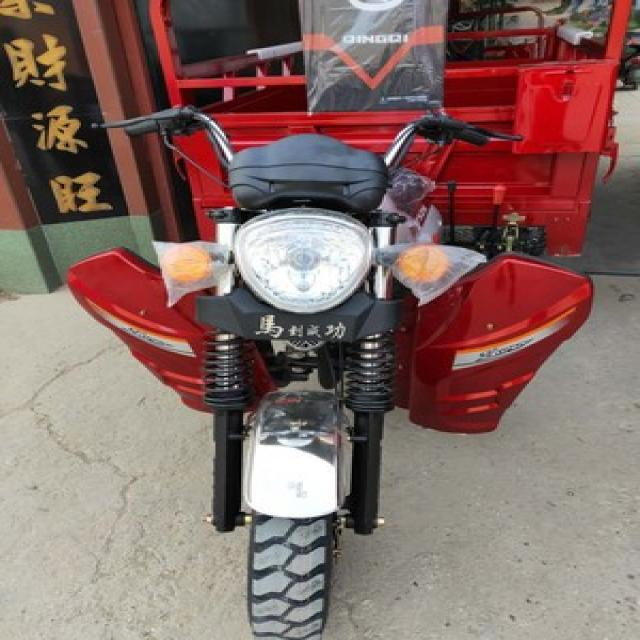tricycle: (62, 2, 631, 635)
